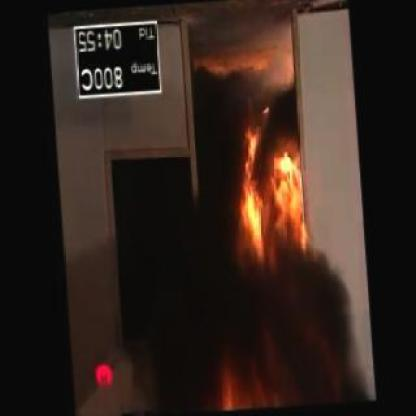Fire: (237, 110, 311, 252)
